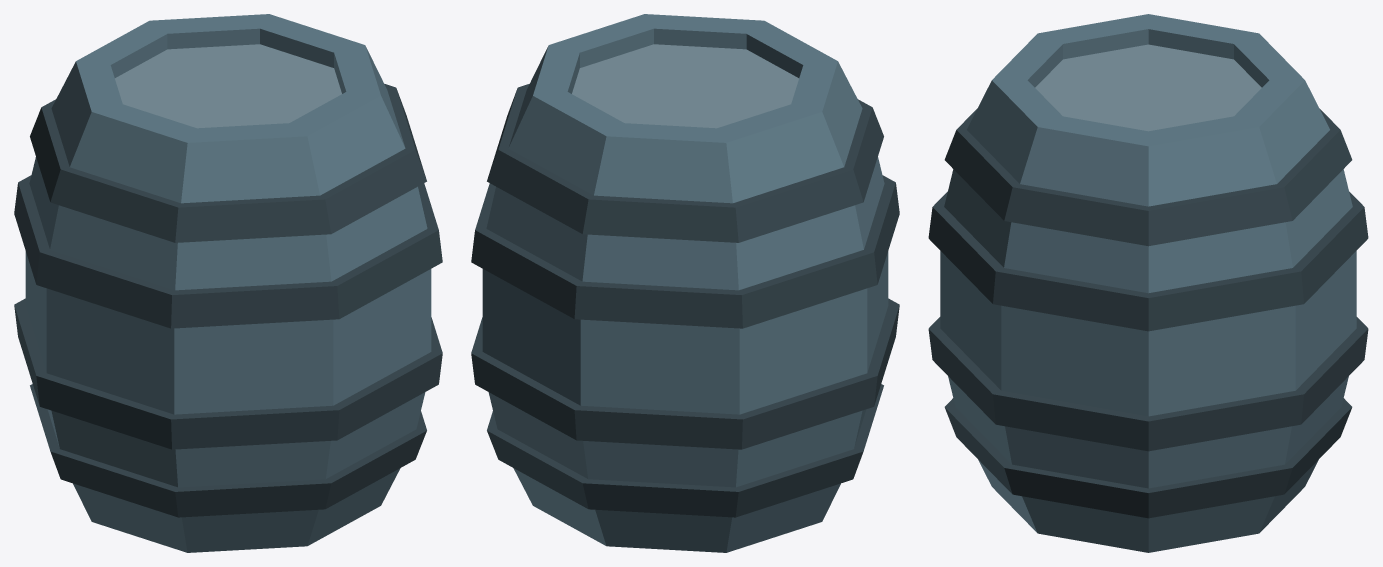
The model's file is Ship_028.glb.
The picture shows the model from 3 angles, left to right: view 1: azimuth 30°, elevation 25°; view 2: azimuth 150°, elevation 25°; view 3: azimuth 270°, elevation 25°; orthographic projection.
Visible parts, largest first — view 1: Ship_028; view 2: Ship_028; view 3: Ship_028.
Boxes of the visible parts, <box> form: Ship_028: <box>14,14,442,552</box>; Ship_028: <box>471,14,899,552</box>; Ship_028: <box>928,14,1368,552</box>.
Bounding box in the file's own units: 0.9202 × 0.9381 × 0.9201.
1 material, 1 textured.
